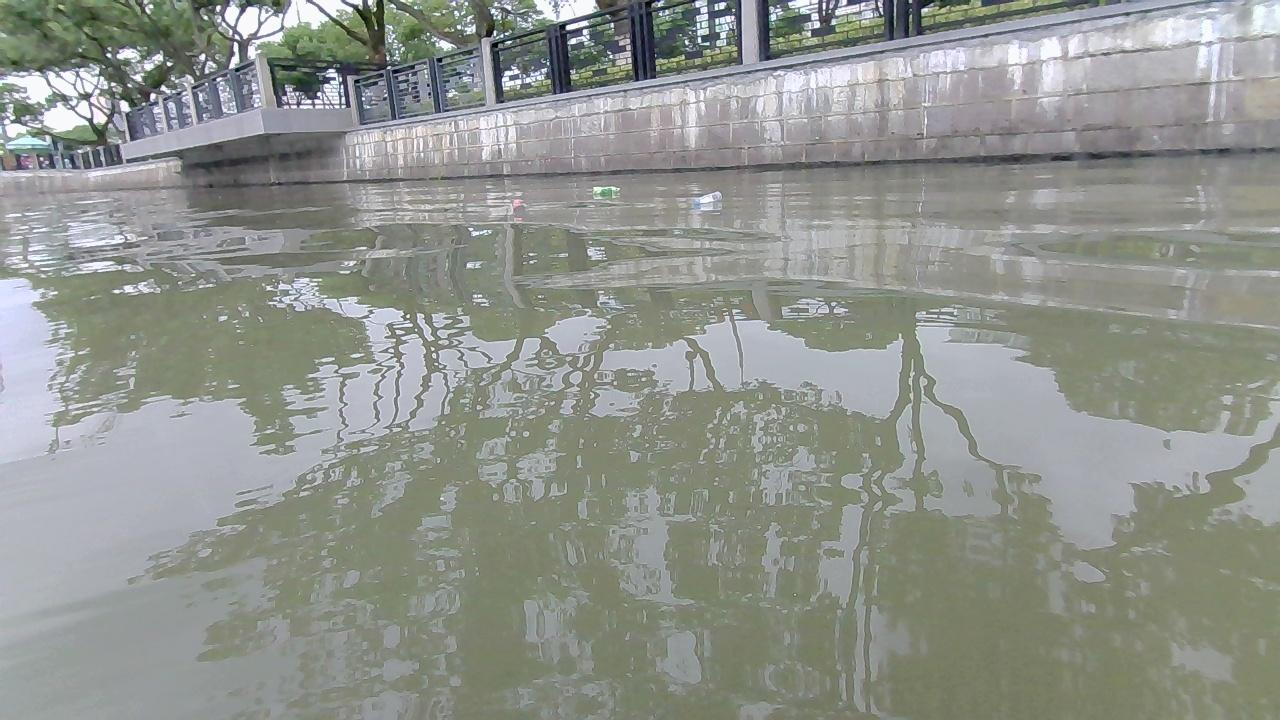bottle: (590, 184, 624, 197), (691, 191, 720, 205), (507, 197, 523, 212)
